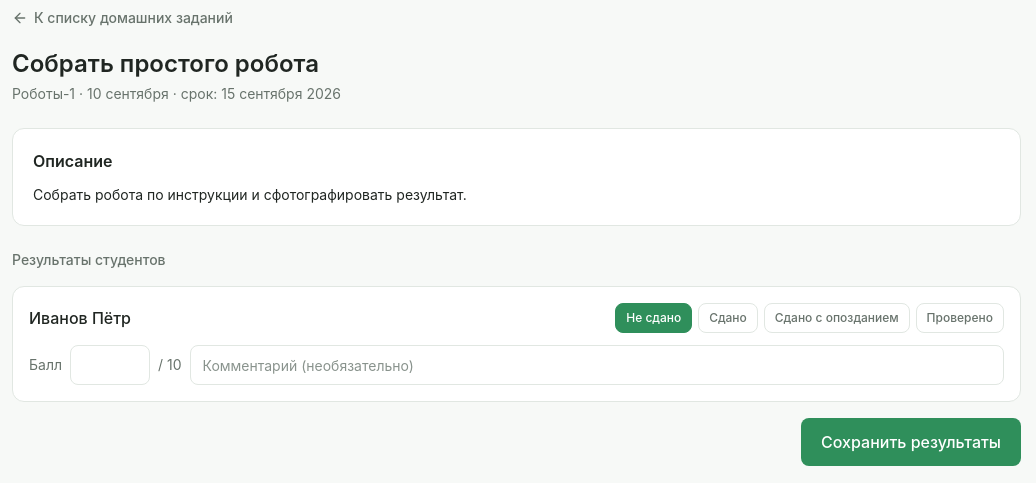
HomeworkDetailPage › never lets the score exceed 10, even if the teacher types a larger number
Expected: the text "Иванов Пётр" is shown, 29,306 -> 131,330
Type "55" into the number field labelled "Балл / 10" at (110, 365), box 70,345 -> 150,385
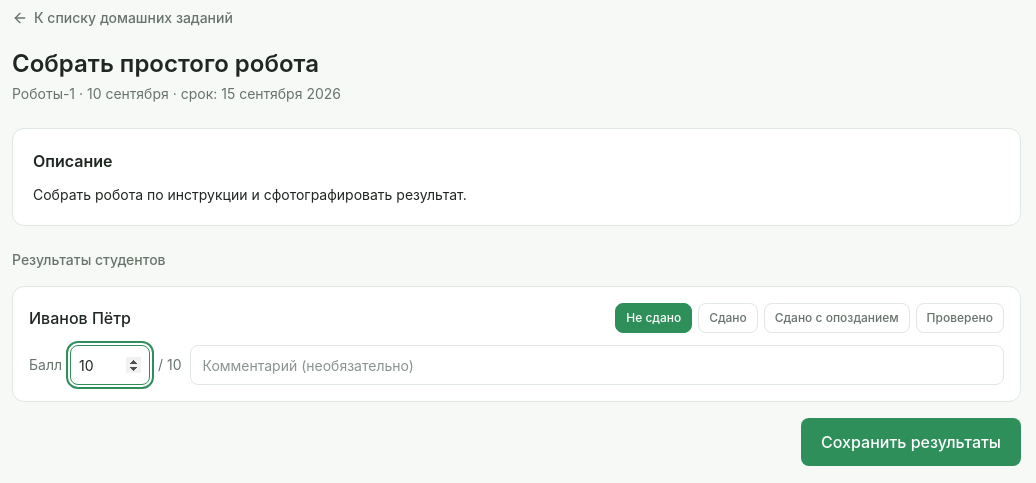
Expected: the number field labelled "Балл / 10" holds "10", 70,345 -> 150,385
